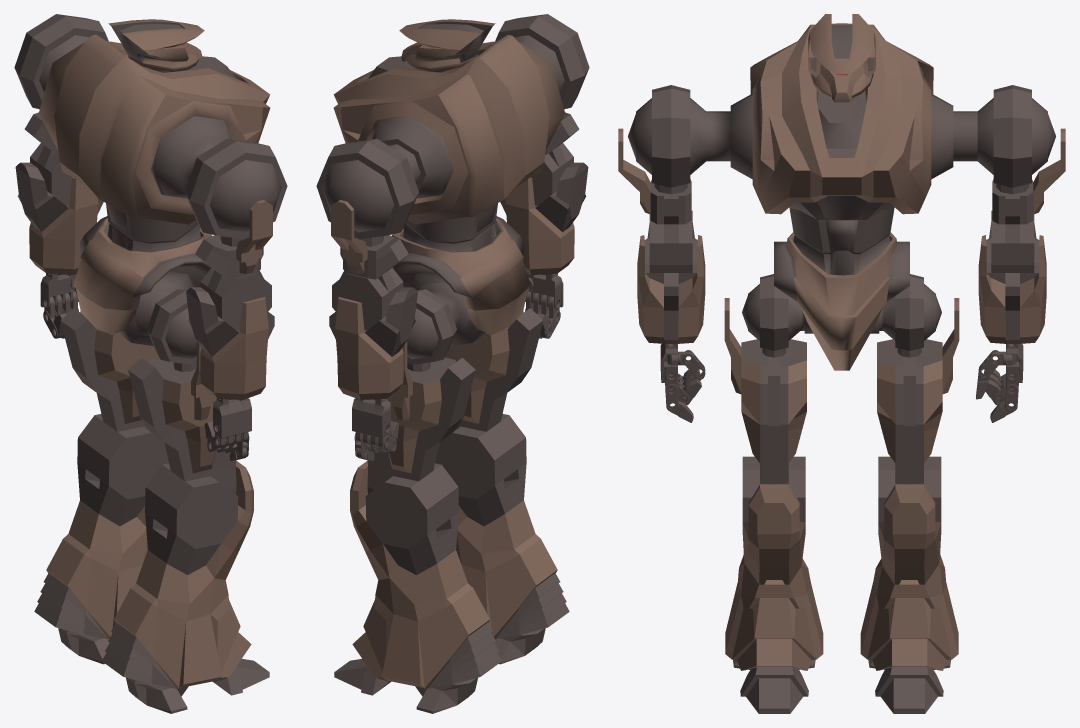
The model's file is Rustbucket GreyBox Test.fbx.
3 views of the same model, side by side, from view 1: azimuth 30°, elevation 25°; view 2: azimuth 150°, elevation 25°; view 3: azimuth 270°, elevation 25° (orthographic).
Parts seen in each view (by area): view 1: Cube.011; view 2: Cube.011; view 3: Cube.011.
Boxes of the visible parts, x1,y1,x2,y2 form: Cube.011: (14,14,287,713); Cube.011: (316,14,589,713); Cube.011: (618,14,1065,713).
Size of the model in its own units: 144 by 453 by 284.
